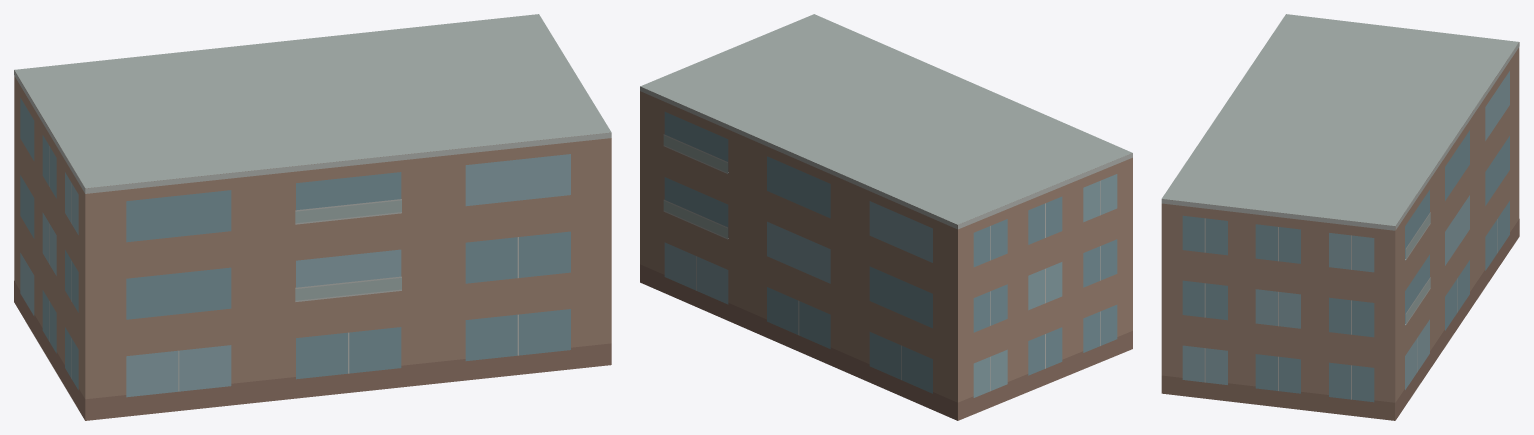
The model's file is survey-upis-32868518.glb.
3 renders of one model, left to right at view 1: azimuth 30°, elevation 25°; view 2: azimuth 150°, elevation 25°; view 3: azimuth 270°, elevation 25°, orthographic. The views are drawn at different scales.
Parts seen in each view (by area): view 1: survey-upis-32868518.tmp; view 2: survey-upis-32868518.tmp; view 3: survey-upis-32868518.tmp.
Part boxes in pixels (bbox=[...]): survey-upis-32868518.tmp: bbox=[14, 14, 611, 420]; survey-upis-32868518.tmp: bbox=[640, 14, 1132, 420]; survey-upis-32868518.tmp: bbox=[1161, 14, 1519, 420].
Bounding box in the file's own units: 23.84 × 10.2 × 17.
